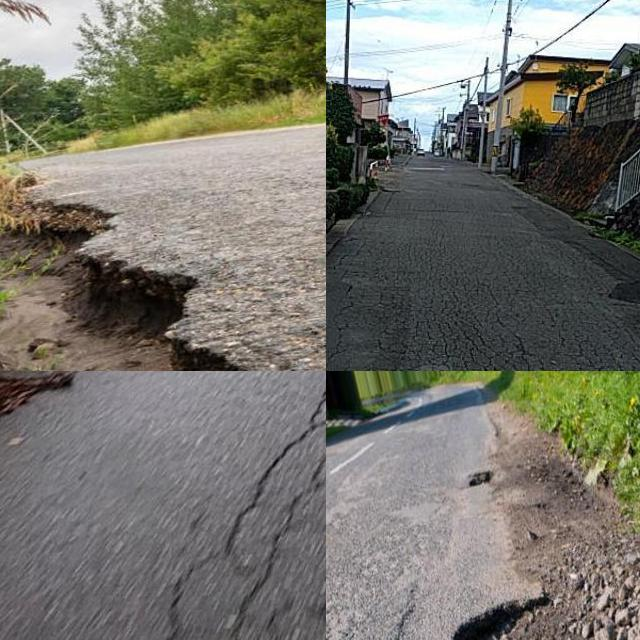Pinggir: (0, 148, 323, 371)
Retak Buaya: (114, 387, 326, 640), (358, 259, 640, 371)
